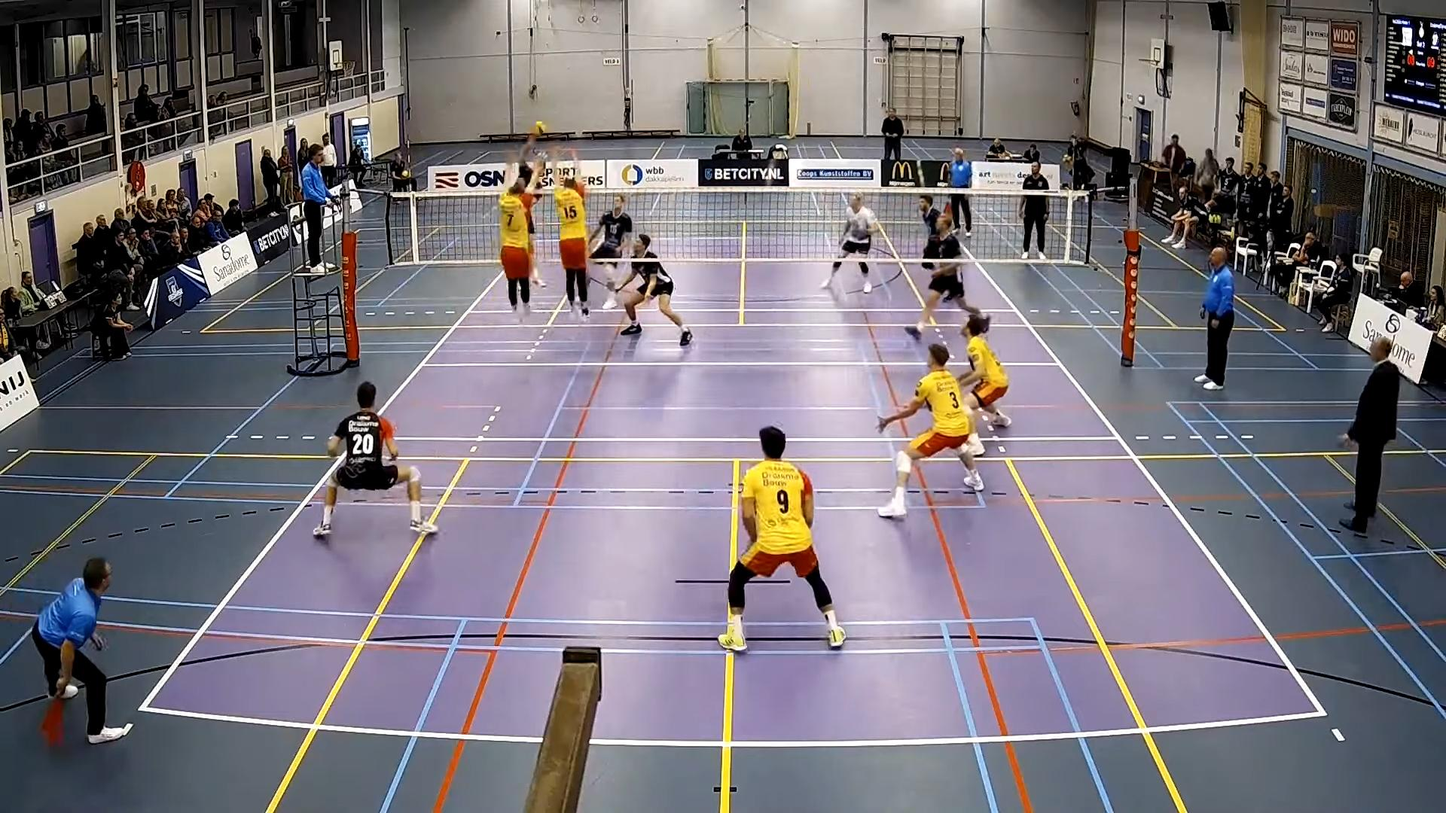Attack: (513, 134, 551, 209)
Block: (485, 141, 548, 322), (549, 145, 597, 328)
Player: (718, 426, 846, 651), (313, 382, 436, 537), (878, 344, 983, 516), (905, 210, 982, 339), (616, 235, 691, 346), (959, 315, 1010, 427), (820, 193, 877, 288), (589, 195, 632, 283)
ball: (534, 120, 548, 134)
